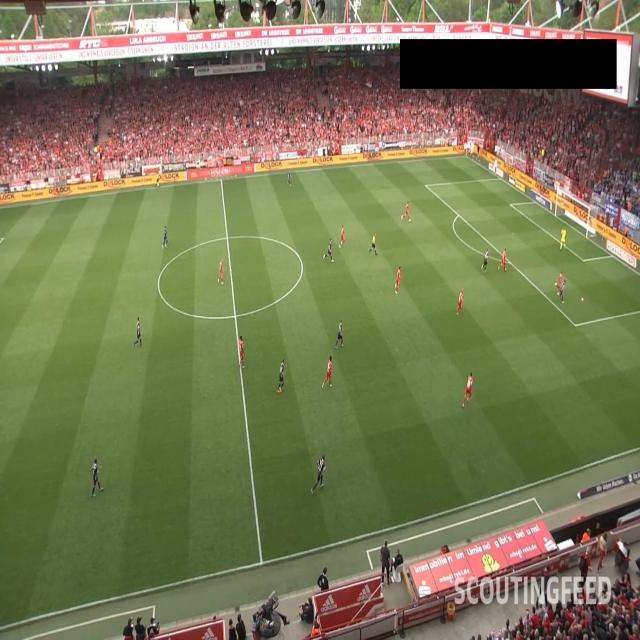ball: (581, 297, 584, 302)
